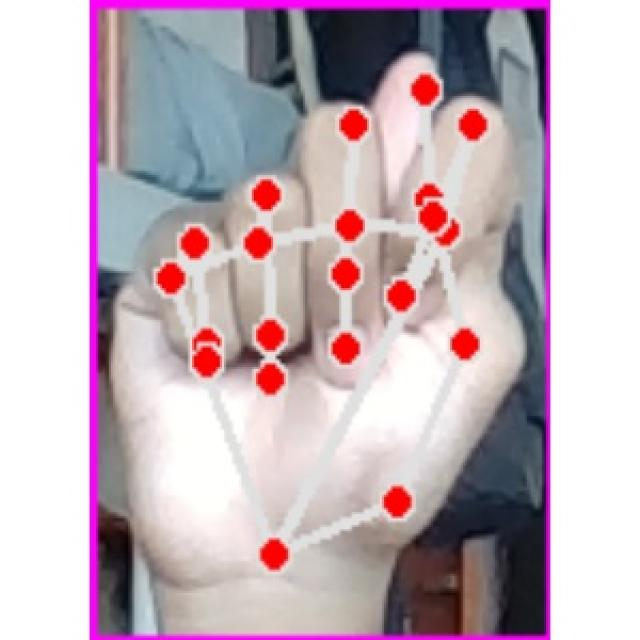T: (109, 36, 528, 584)
